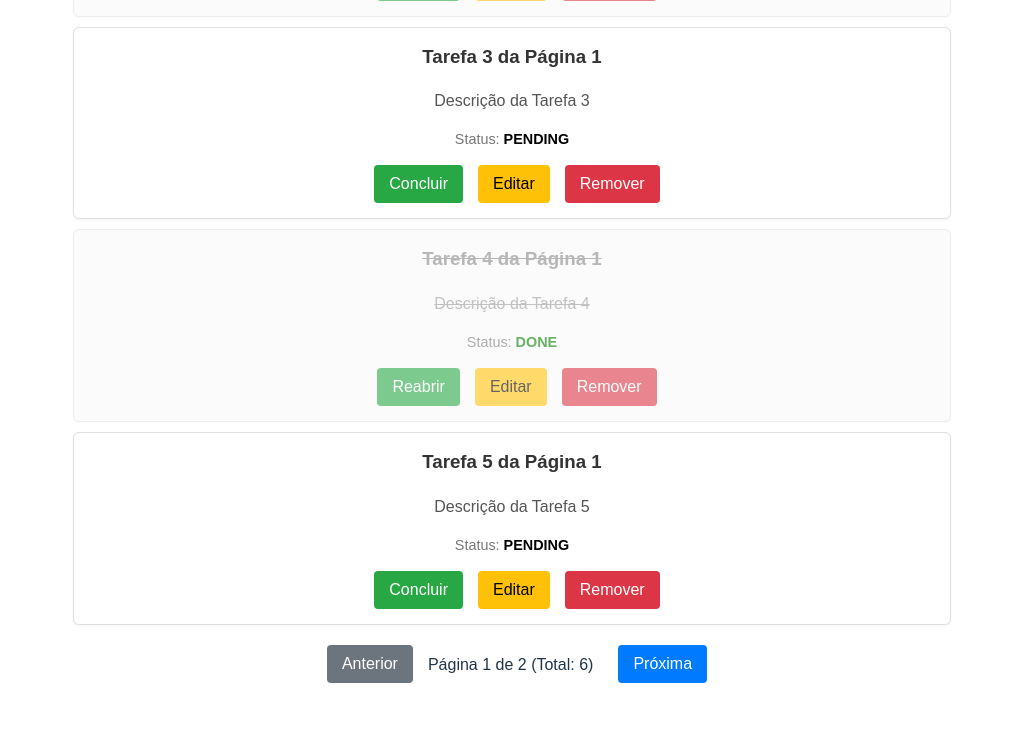
Test: MainPage › Pagination › should fetch next page when "Próxima" is clicked
(page scrolled)
Check: the text "Página 1 de 2 (Total: 6)" is shown, box left=428, top=656, right=593, bottom=673
Click the button "Próxima".
click(663, 664)  # box left=618, top=645, right=707, bottom=683
(page scrolled)
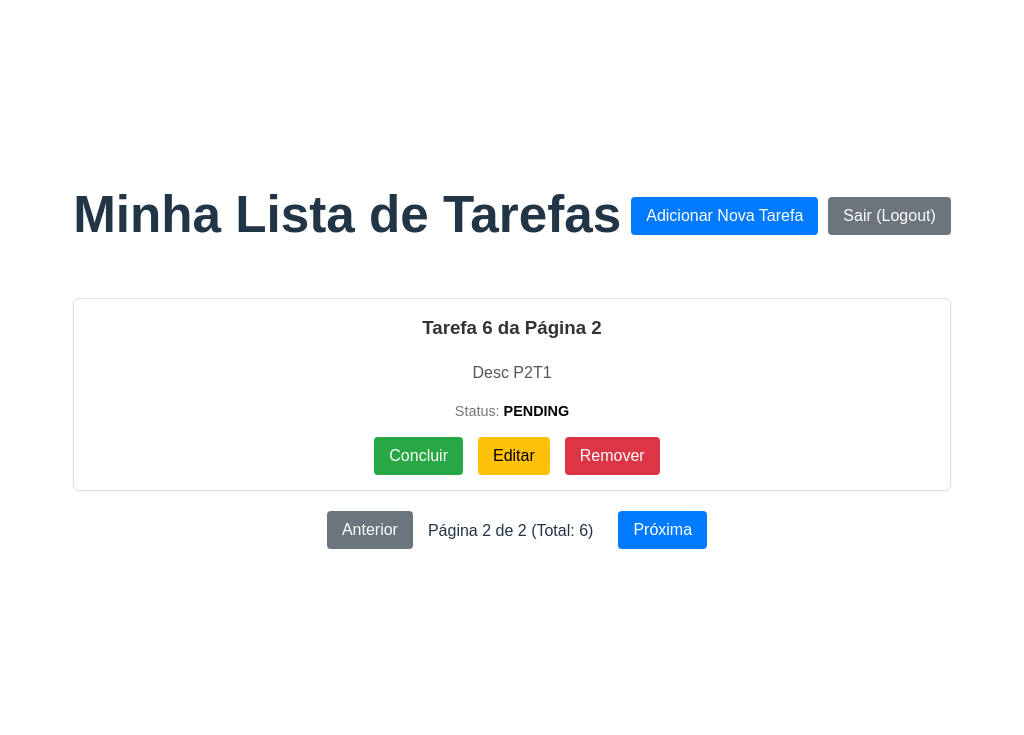
Check: the text "Página 2 de 2 (Total: 6)" is shown, box left=428, top=522, right=593, bottom=539
